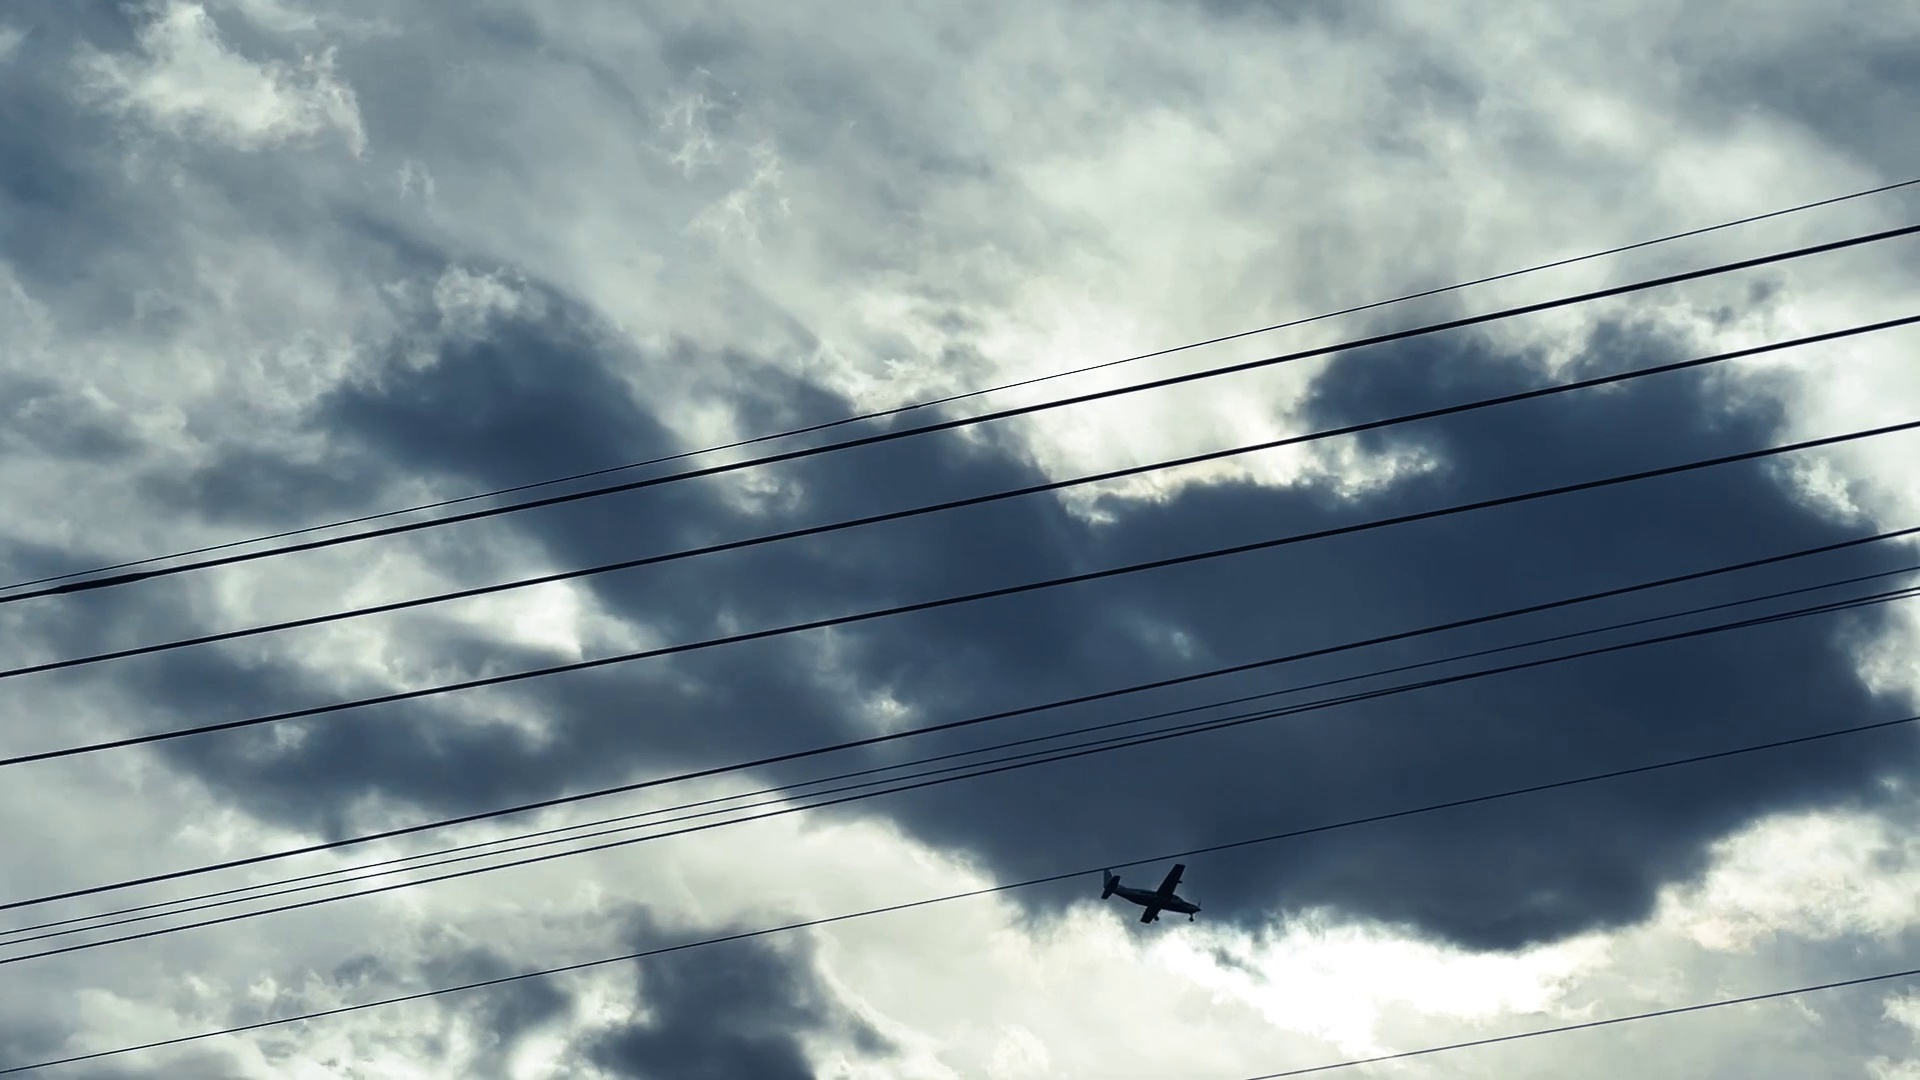plane: (1102, 864, 1204, 924)
